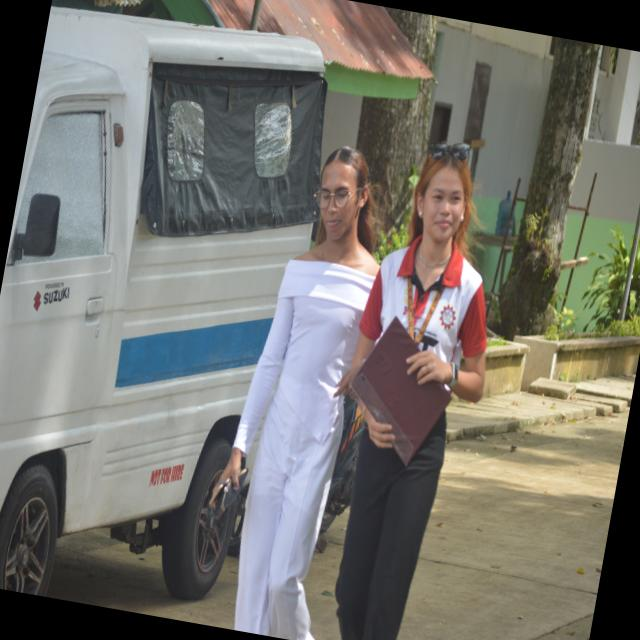person: (221, 147, 379, 639), (341, 144, 486, 402)
